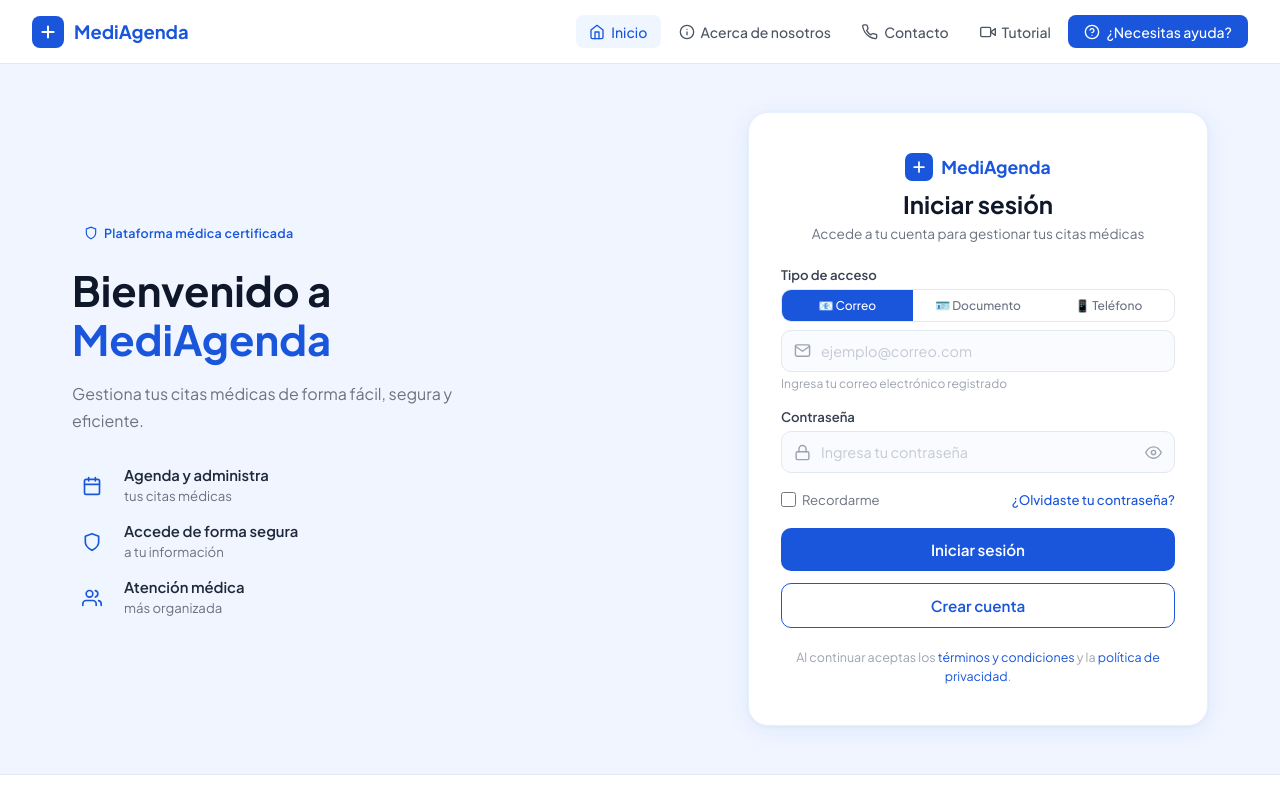
Test: Componente Login - MediAgenda › Interacciones del usuario › debe abrir el modal de términos
This screenshot has width=1280, height=791.
Click the link "términos y condiciones". click: point(1006, 657)
box: [938,649,1075,665]
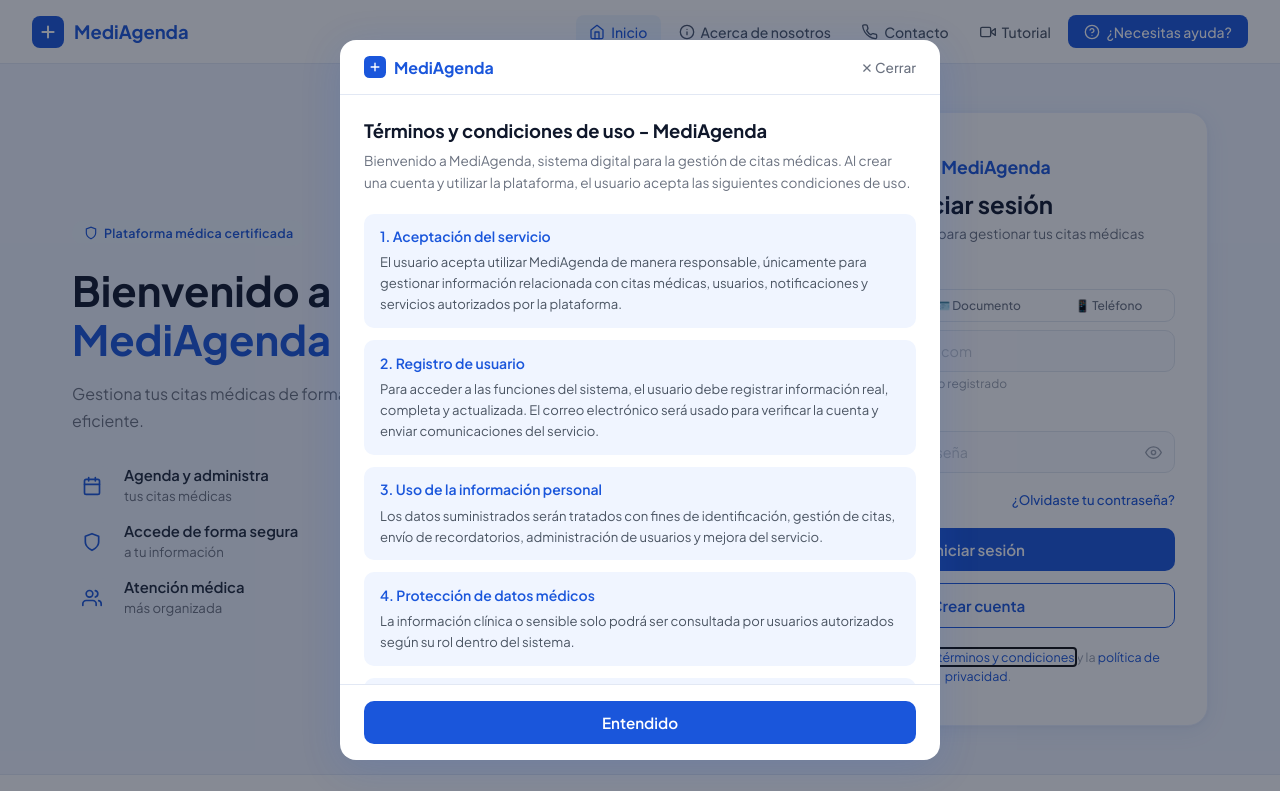
Now the heading "Términos y condiciones de uso - MediAgenda" is shown, box [364,119,767,142]
